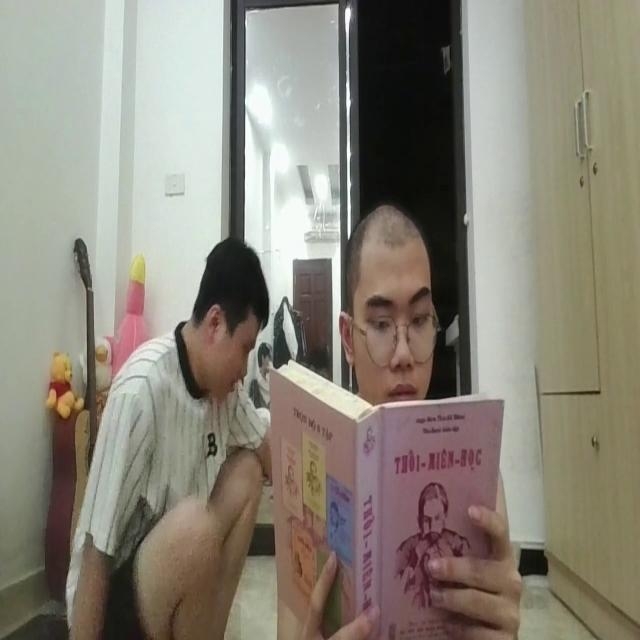book: (266, 354, 506, 632)
extra_person: (80, 238, 272, 640)
student: (337, 194, 439, 412)
